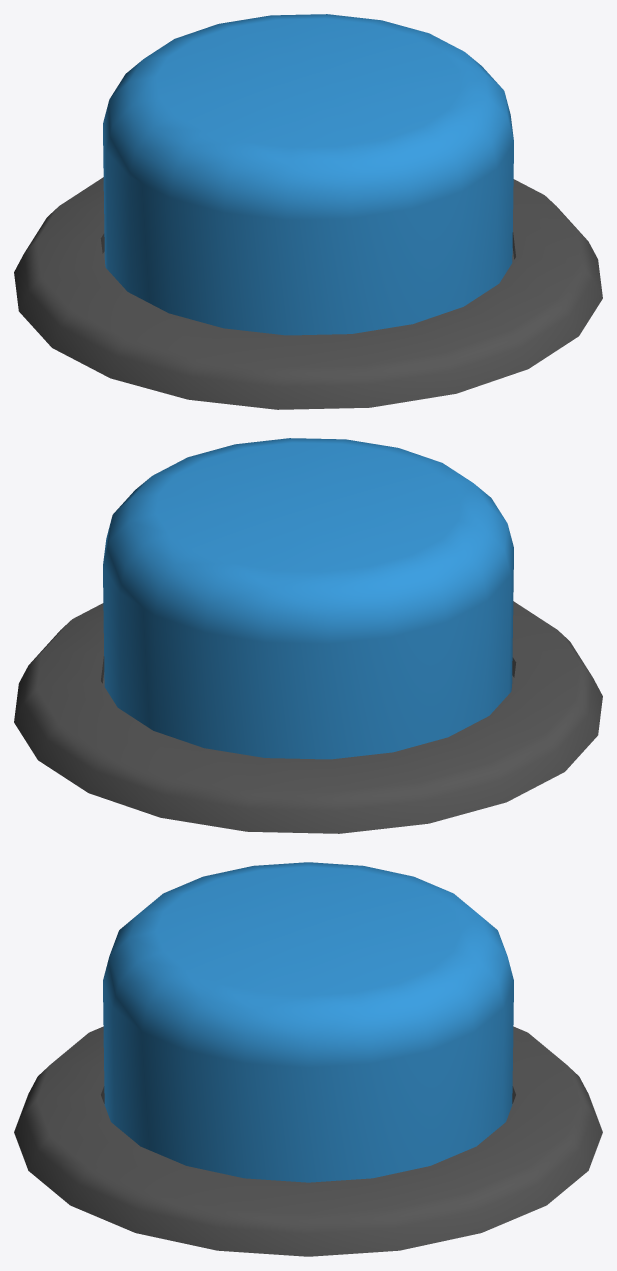
File: button2.glb
3 renders of one model, top to bottom at view 1: azimuth 30°, elevation 25°; view 2: azimuth 150°, elevation 25°; view 3: azimuth 270°, elevation 25°, orthographic.
Visible parts, largest first — view 1: SM_SimpleButton_B.001, SM_SimpleButton_Base_B.001; view 2: SM_SimpleButton_B.001, SM_SimpleButton_Base_B.001; view 3: SM_SimpleButton_B.001, SM_SimpleButton_Base_B.001.
Boxes of the visible parts, x1,y1,x2,y2 form: SM_SimpleButton_B.001: [103, 14, 513, 335]; SM_SimpleButton_Base_B.001: [14, 177, 602, 409]; SM_SimpleButton_B.001: [103, 438, 513, 759]; SM_SimpleButton_Base_B.001: [14, 601, 602, 833]; SM_SimpleButton_B.001: [103, 862, 513, 1182]; SM_SimpleButton_Base_B.001: [14, 1026, 602, 1256].
Size of the model in its own units: 24.07 by 9.07 by 24.07.
